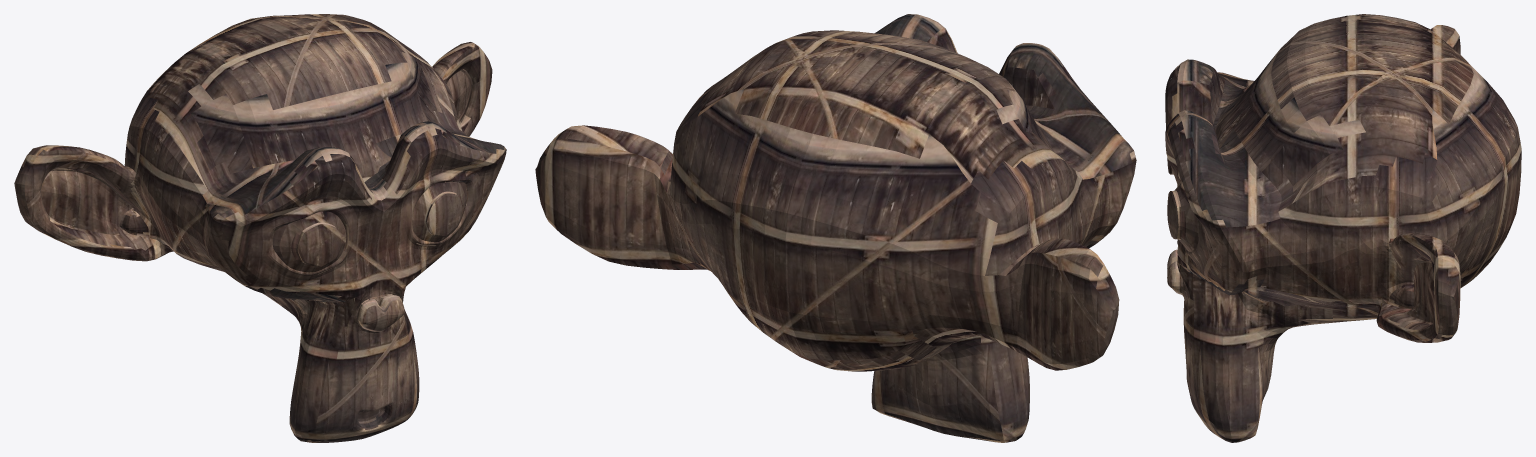
The model's file is monkey2.obj.
3 renders of one model, left to right at view 1: azimuth 30°, elevation 25°; view 2: azimuth 150°, elevation 25°; view 3: azimuth 270°, elevation 25°, orthographic. The views are drawn at different scales.
Visible parts, largest first — view 1: Suzanne; view 2: Suzanne; view 3: Suzanne.
Boxes of the visible parts, x1=… form: Suzanne: x1=14, y1=14, x2=506, y2=442; Suzanne: x1=535, y1=14, x2=1136, y2=442; Suzanne: x1=1165, y1=14, x2=1521, y2=442.
Bounding box in the file's own units: 2.69 × 1.94 × 1.65.
